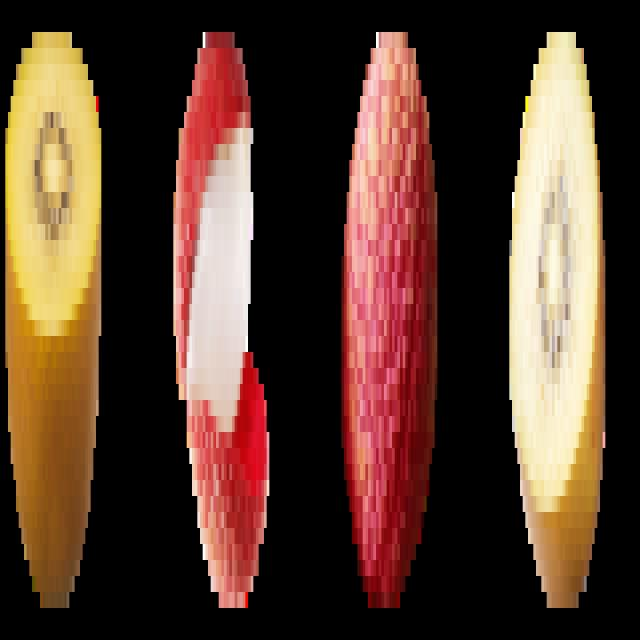kiwifruit: (503, 19, 614, 630), (3, 22, 108, 618)
lychee: (335, 20, 443, 630), (170, 9, 274, 624)
